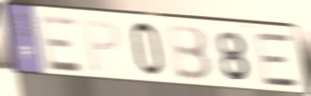0: (128, 20, 167, 82)
8: (216, 30, 253, 84)
B: (165, 25, 215, 84)
E: (37, 13, 86, 75), (253, 32, 301, 89)
P: (82, 19, 122, 75)
